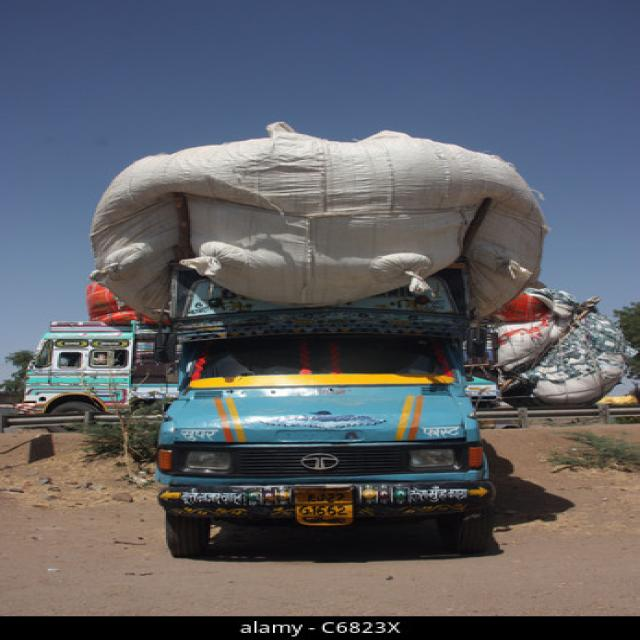normal_truck: (156, 235, 496, 557)
overloaded_truck: (91, 122, 547, 316)
